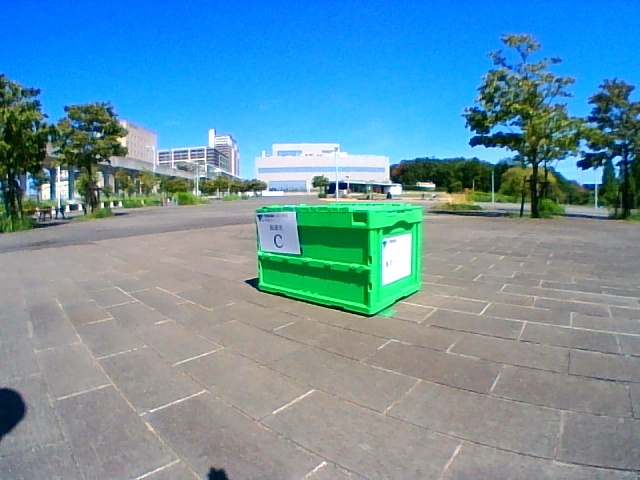green_box: (254, 202, 423, 316)
tag_c: (261, 214, 293, 251)
